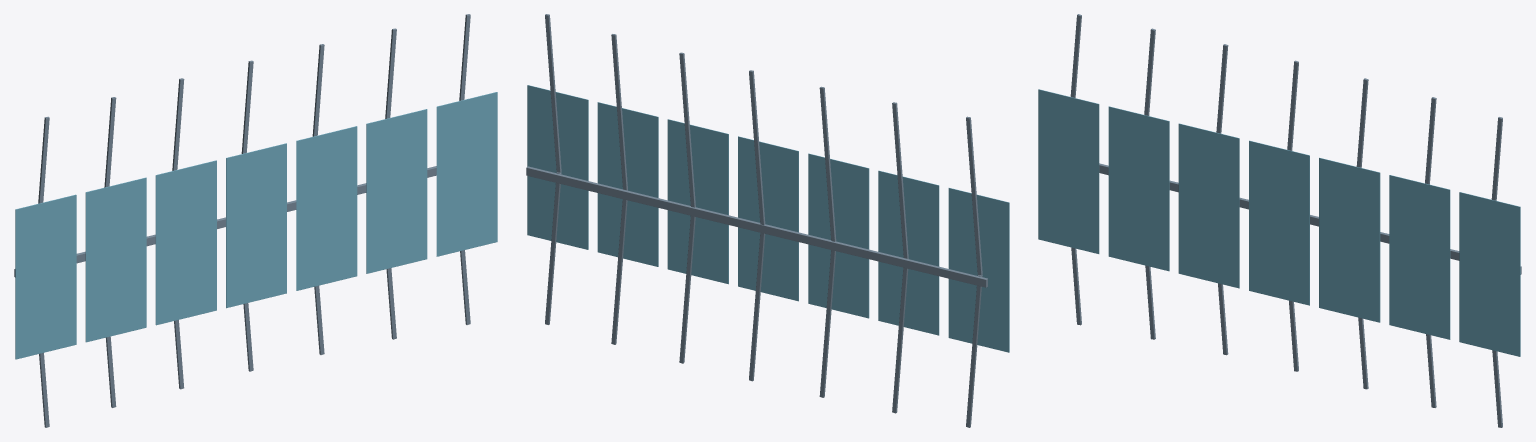
File: terminal_roof.glb
3 renders of one model, left to right at view 1: azimuth 30°, elevation 25°; view 2: azimuth 150°, elevation 25°; view 3: azimuth 330°, elevation 25°, orthographic.
Parts seen in each view (by area): view 1: glass_bay.004, glass_bay, glass_bay.001, glass_bay.002, glass_bay.005, glass_bay.006, glass_bay.003, roof_spine, roof_rib.007, roof_rib.005, roof_rib.009, roof_rib.011 (+3 smaller); view 2: glass_bay, glass_bay.006, glass_bay.001, glass_bay.004, glass_bay.005, glass_bay.002, glass_bay.003, roof_spine, roof_rib.001, roof_rib.013, roof_rib.003, roof_rib.011 (+10 smaller); view 3: glass_bay, glass_bay.001, glass_bay.004, glass_bay.002, glass_bay.005, glass_bay.006, glass_bay.003, roof_spine, roof_rib.007, roof_rib.005, roof_rib.009, roof_rib.003 (+3 smaller).
Boxes of the visible parts, x1=… form: glass_bay.004: x1=296, y1=126, x2=357, y2=290; glass_bay: x1=15, y1=194, x2=76, y2=359; glass_bay.001: x1=85, y1=177, x2=146, y2=342; glass_bay.002: x1=155, y1=160, x2=216, y2=325; glass_bay.005: x1=366, y1=109, x2=427, y2=273; glass_bay.006: x1=436, y1=92, x2=497, y2=256; glass_bay.003: x1=226, y1=143, x2=286, y2=308; roof_spine: x1=14, y1=166, x2=436, y2=277; roof_rib.007: x1=241, y1=60, x2=253, y2=153; roof_rib.005: x1=172, y1=78, x2=184, y2=170; roof_rib.009: x1=312, y1=44, x2=324, y2=136; roof_rib.011: x1=385, y1=28, x2=396, y2=118; glass_bay: x1=948, y1=188, x2=1009, y2=352; glass_bay.006: x1=527, y1=85, x2=588, y2=249; glass_bay.001: x1=878, y1=170, x2=939, y2=335; glass_bay.004: x1=667, y1=119, x2=728, y2=284; glass_bay.005: x1=597, y1=102, x2=658, y2=266; glass_bay.002: x1=808, y1=153, x2=869, y2=318; glass_bay.003: x1=738, y1=136, x2=798, y2=301; roof_spine: x1=526, y1=166, x2=987, y2=287; roof_rib.001: x1=966, y1=116, x2=982, y2=275; roof_rib.013: x1=545, y1=14, x2=561, y2=172; roof_rib.003: x1=892, y1=102, x2=908, y2=258; roof_rib.011: x1=611, y1=34, x2=627, y2=190; glass_bay: x1=1038, y1=89, x2=1099, y2=253; glass_bay.001: x1=1108, y1=106, x2=1169, y2=271; glass_bay.004: x1=1319, y1=157, x2=1380, y2=322; glass_bay.002: x1=1178, y1=123, x2=1239, y2=288; glass_bay.005: x1=1389, y1=175, x2=1450, y2=339; glass_bay.006: x1=1459, y1=192, x2=1520, y2=356; glass_bay.003: x1=1249, y1=140, x2=1309, y2=305; roof_spine: x1=1099, y1=163, x2=1521, y2=274; roof_rib.007: x1=1287, y1=60, x2=1298, y2=150; roof_rib.005: x1=1216, y1=44, x2=1228, y2=133; roof_rib.009: x1=1356, y1=78, x2=1368, y2=167; roof_rib.003: x1=1144, y1=28, x2=1155, y2=115.
Size of the model in its own units: 618 by 380 by 27.4.
